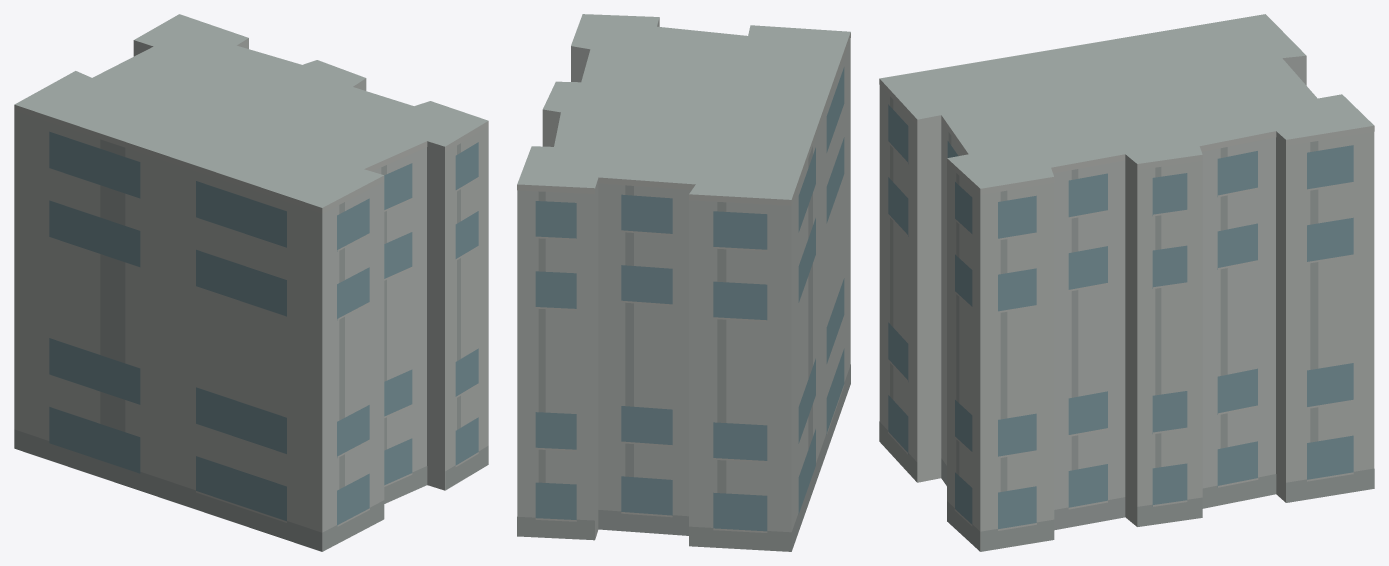
Rendered from survey-upis-32883428.glb.
The picture shows the model from 3 angles, left to right: view 1: azimuth 30°, elevation 25°; view 2: azimuth 150°, elevation 25°; view 3: azimuth 270°, elevation 25°; orthographic projection. The views are drawn at different scales.
Visible parts, largest first — view 1: survey-upis-32883428.tmp; view 2: survey-upis-32883428.tmp; view 3: survey-upis-32883428.tmp.
Boxes of the visible parts, left/top/right/bottom form: survey-upis-32883428.tmp: left=14, top=14, right=488, bottom=551; survey-upis-32883428.tmp: left=517, top=14, right=850, bottom=551; survey-upis-32883428.tmp: left=879, top=14, right=1374, bottom=551.
Size of the model in its own units: 14.77 by 14.3 by 17.68.
